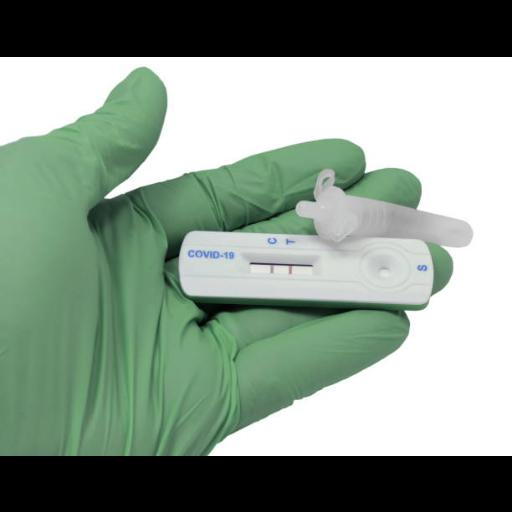Pos: (181, 229, 433, 303)
